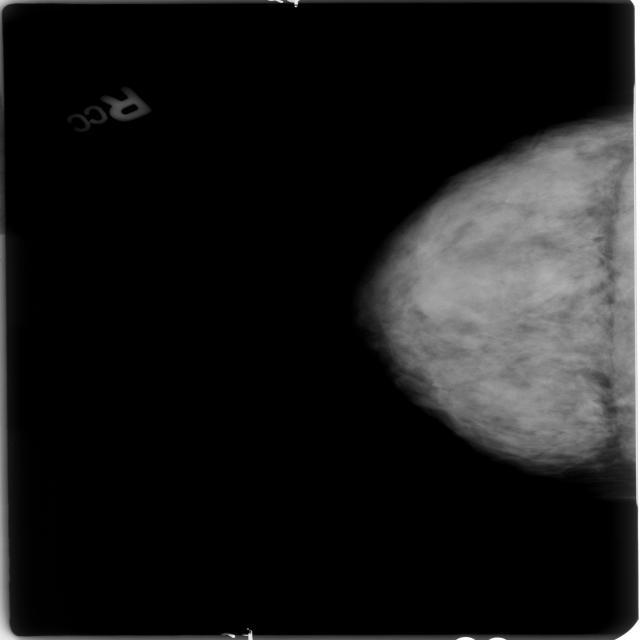normal: (350, 70, 640, 488)
